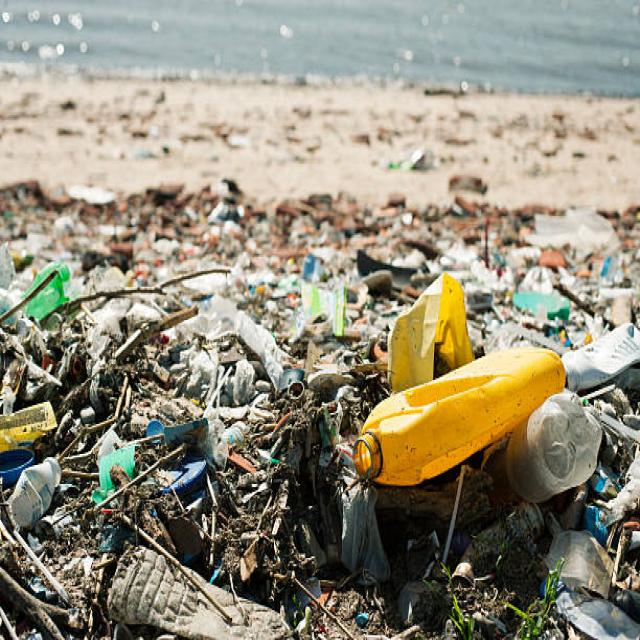trash: (21, 276, 600, 577)
